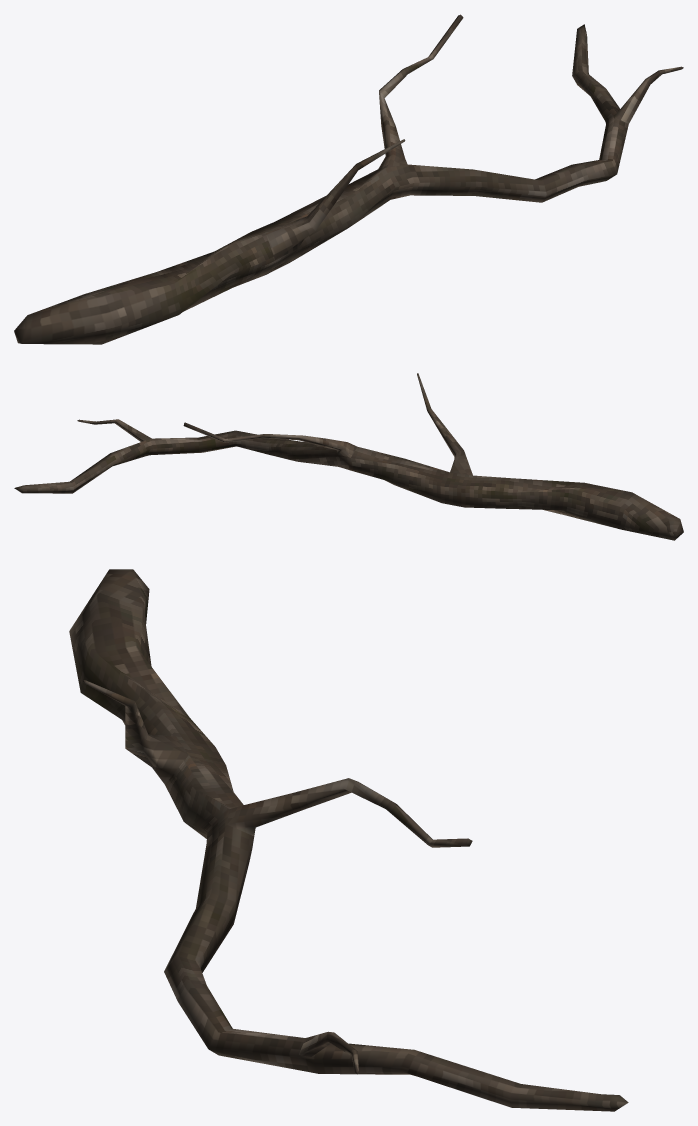
The model's file is tree_branch_1.fbx.
3 views of the same model, one above another, from view 1: azimuth 30°, elevation 25°; view 2: azimuth 150°, elevation 25°; view 3: azimuth 270°, elevation 25° (orthographic). The views are drawn at different scales.
Parts seen in each view (by area): view 1: tree_branch_1; view 2: tree_branch_1; view 3: tree_branch_1.
Part boxes in pixels (x1,y1,x2,y2): tree_branch_1: (14,14,683,344); tree_branch_1: (14,373,683,540); tree_branch_1: (69,569,628,1111).
Bounding box in the file's own units: 362 × 161 × 62.84.
